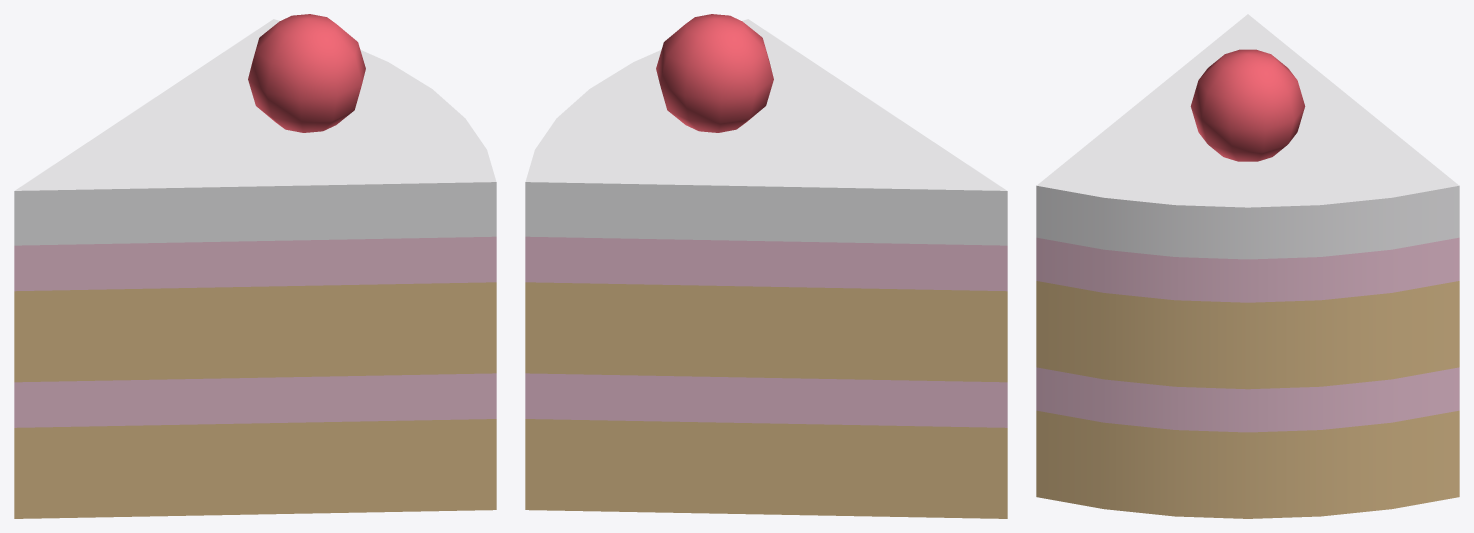
The model's file is CakeSlice.fbx.
3 renders of one model, left to right at view 1: azimuth 30°, elevation 25°; view 2: azimuth 150°, elevation 25°; view 3: azimuth 270°, elevation 25°, orthographic. The views are drawn at different scales.
Visible parts, largest first — view 1: CakeSlice; view 2: CakeSlice; view 3: CakeSlice.
Part boxes in pixels (x1,y1,x2,y2): CakeSlice: (14, 14, 496, 518); CakeSlice: (525, 14, 1007, 518); CakeSlice: (1036, 14, 1459, 518).
Bounding box in the file's own units: 2.4 × 2.35 × 2.22.
